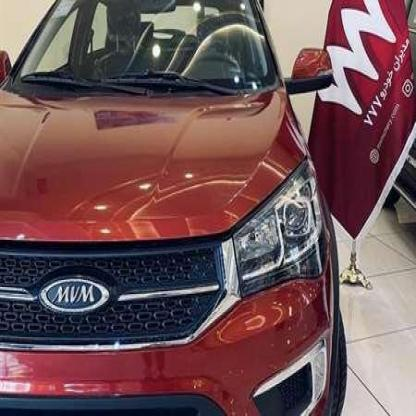Car: (0, 0, 357, 416)
